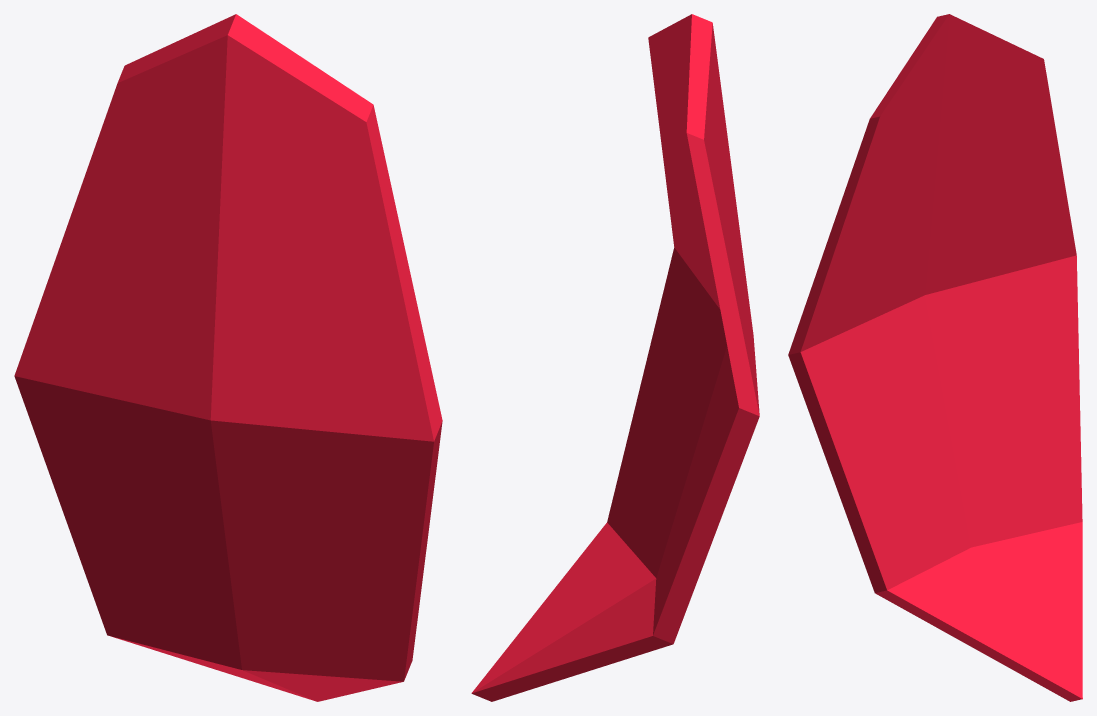
Rendered from Tulip Petal.fbx.
The picture shows the model from 3 angles, left to right: view 1: azimuth 30°, elevation 25°; view 2: azimuth 150°, elevation 25°; view 3: azimuth 270°, elevation 25°; orthographic projection. The views are drawn at different scales.
Parts seen in each view (by area): view 1: Tulip Petal 02.001; view 2: Tulip Petal 02.001; view 3: Tulip Petal 02.001.
Part boxes in pixels (x1,y1,x2,y2): Tulip Petal 02.001: (14, 14, 442, 701); Tulip Petal 02.001: (471, 14, 759, 701); Tulip Petal 02.001: (788, 14, 1082, 701).
Bounding box in the file's own units: 0.1925 × 0.4446 × 0.1895.
